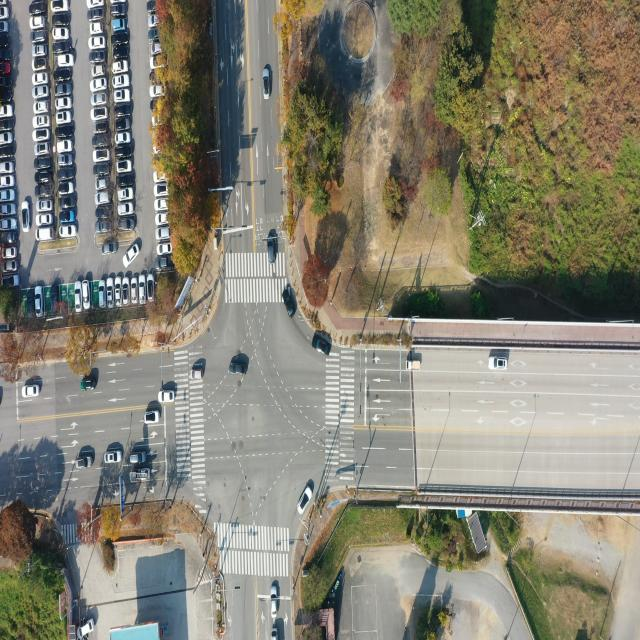car: (298, 488, 313, 516), (76, 618, 95, 640), (312, 336, 330, 357), (282, 291, 295, 320), (125, 246, 140, 267), (270, 238, 279, 268), (262, 67, 270, 100), (1, 147, 16, 164), (490, 357, 508, 371), (230, 362, 248, 376), (34, 158, 52, 172), (112, 44, 128, 59), (36, 229, 53, 243), (55, 70, 73, 83), (150, 57, 165, 72), (113, 74, 129, 88), (60, 182, 76, 196), (22, 204, 30, 232), (27, 288, 35, 316), (60, 224, 77, 237), (53, 0, 70, 13), (111, 61, 128, 74), (91, 36, 106, 50), (115, 117, 130, 131), (114, 32, 129, 46), (0, 205, 16, 218), (160, 390, 176, 403), (0, 218, 16, 231), (114, 91, 130, 104), (94, 149, 110, 162), (36, 214, 52, 227), (94, 165, 110, 178), (3, 275, 19, 288), (52, 13, 68, 26), (149, 85, 165, 98), (23, 386, 40, 398), (115, 146, 132, 158), (83, 281, 90, 309), (0, 176, 15, 189), (34, 130, 49, 143), (111, 20, 126, 33), (117, 188, 132, 201), (91, 52, 106, 65), (94, 135, 109, 148), (106, 452, 122, 464), (57, 112, 73, 124), (120, 219, 136, 231), (60, 212, 76, 224), (54, 29, 70, 41), (144, 412, 160, 424), (76, 457, 92, 469), (56, 86, 72, 98), (58, 141, 74, 153), (60, 198, 76, 210), (80, 380, 96, 392), (110, 4, 126, 16), (34, 143, 50, 155), (130, 453, 146, 465), (115, 105, 131, 117), (60, 170, 76, 182), (97, 280, 104, 307), (107, 279, 114, 306), (122, 278, 129, 305), (132, 277, 139, 304), (0, 32, 11, 49), (0, 105, 13, 119), (96, 192, 110, 205), (93, 78, 107, 91), (118, 204, 132, 217), (94, 108, 108, 121), (32, 31, 46, 44), (114, 278, 121, 304), (50, 286, 57, 312), (33, 73, 48, 85), (116, 162, 131, 174), (0, 190, 15, 202), (115, 134, 130, 146), (57, 99, 72, 111), (59, 56, 74, 68), (37, 202, 52, 214), (158, 260, 173, 272), (34, 102, 49, 114), (35, 172, 50, 184), (97, 208, 112, 220), (35, 185, 50, 197), (272, 586, 278, 616), (118, 173, 133, 185), (55, 126, 73, 136), (30, 4, 46, 15), (36, 286, 42, 315), (158, 230, 171, 243), (157, 213, 170, 226), (0, 120, 13, 133), (34, 88, 48, 100), (0, 163, 14, 175), (158, 244, 172, 256), (30, 16, 44, 28), (33, 45, 47, 57), (4, 262, 18, 274), (33, 59, 47, 71), (75, 282, 81, 310), (90, 8, 104, 20), (192, 368, 206, 380), (140, 276, 146, 304), (96, 124, 110, 136), (91, 92, 105, 104), (59, 157, 74, 168), (93, 95, 108, 106), (0, 46, 11, 61), (148, 276, 154, 303), (54, 44, 70, 54), (0, 134, 13, 146), (103, 244, 116, 256), (156, 185, 169, 197), (91, 23, 104, 35), (96, 222, 110, 233), (34, 116, 48, 127), (0, 62, 11, 76), (157, 200, 169, 212), (93, 66, 105, 78), (0, 75, 11, 88), (0, 90, 13, 101), (4, 248, 16, 259), (156, 172, 168, 183), (148, 29, 159, 41), (150, 42, 161, 54), (95, 182, 106, 193), (89, 0, 104, 8), (148, 14, 158, 26), (0, 7, 9, 20), (97, 180, 108, 190), (0, 22, 9, 34), (147, 1, 156, 12), (150, 99, 156, 110)
small_truck: (130, 469, 151, 481), (406, 359, 423, 371), (1, 232, 16, 244), (272, 627, 278, 640)
